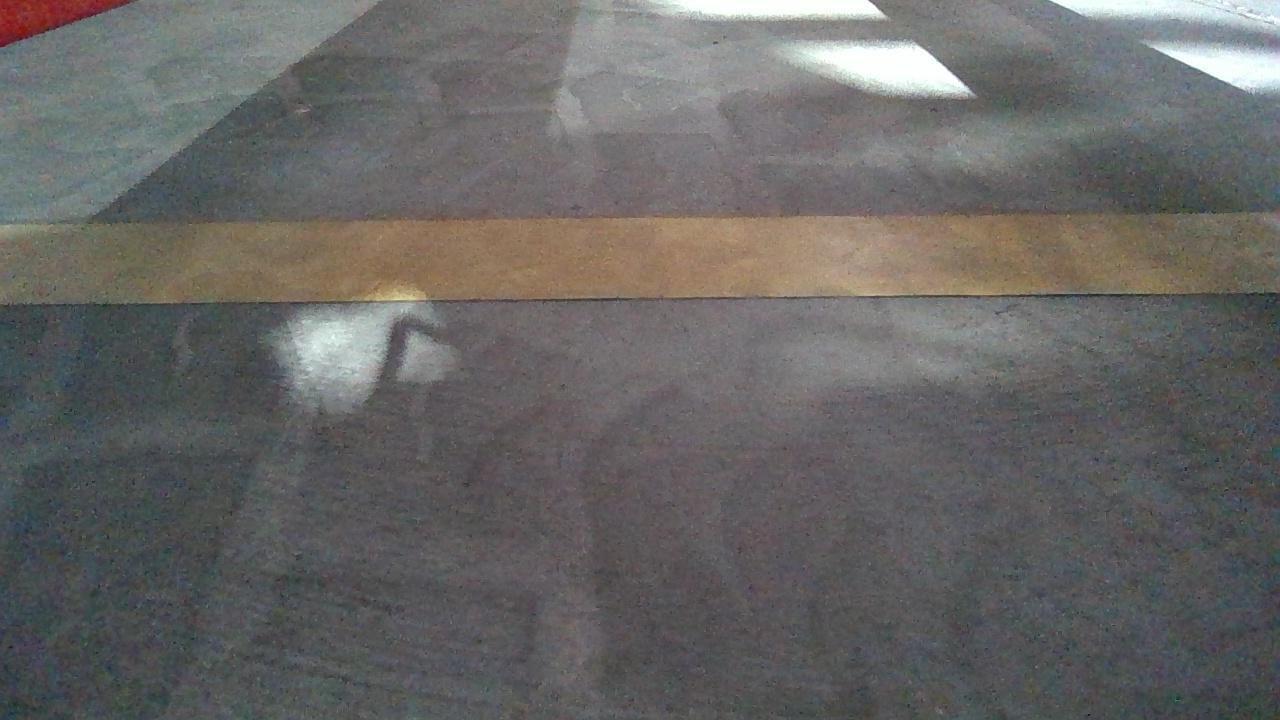yellow_line: (8, 207, 1276, 308)
